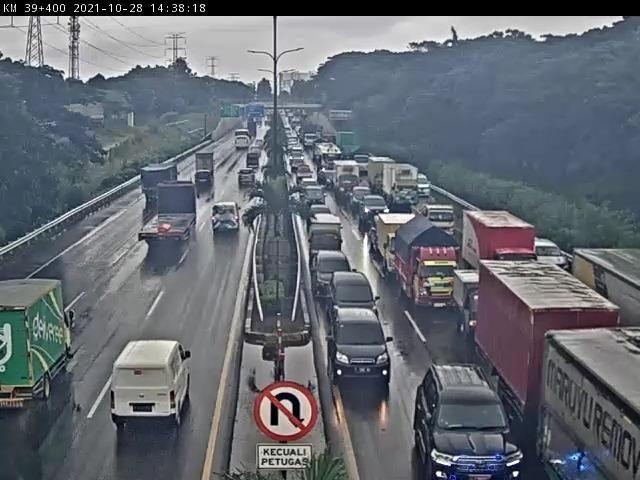bus: (231, 128, 256, 155)
car: (409, 370, 519, 480), (106, 337, 198, 434), (324, 306, 396, 386), (330, 274, 381, 316), (316, 251, 359, 295), (210, 199, 244, 236), (535, 238, 568, 266), (197, 171, 218, 192), (239, 169, 257, 189)
truck: (482, 257, 618, 410), (539, 328, 640, 480), (2, 277, 81, 418), (394, 221, 460, 317), (573, 250, 640, 330), (461, 210, 542, 272), (144, 181, 194, 247), (370, 214, 417, 273), (456, 276, 490, 336), (133, 163, 186, 196), (194, 148, 218, 179), (245, 150, 262, 172)
